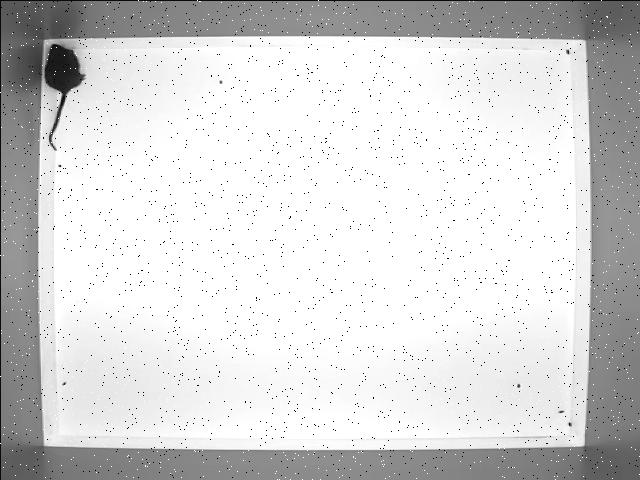Tikus: (40, 41, 89, 153)
